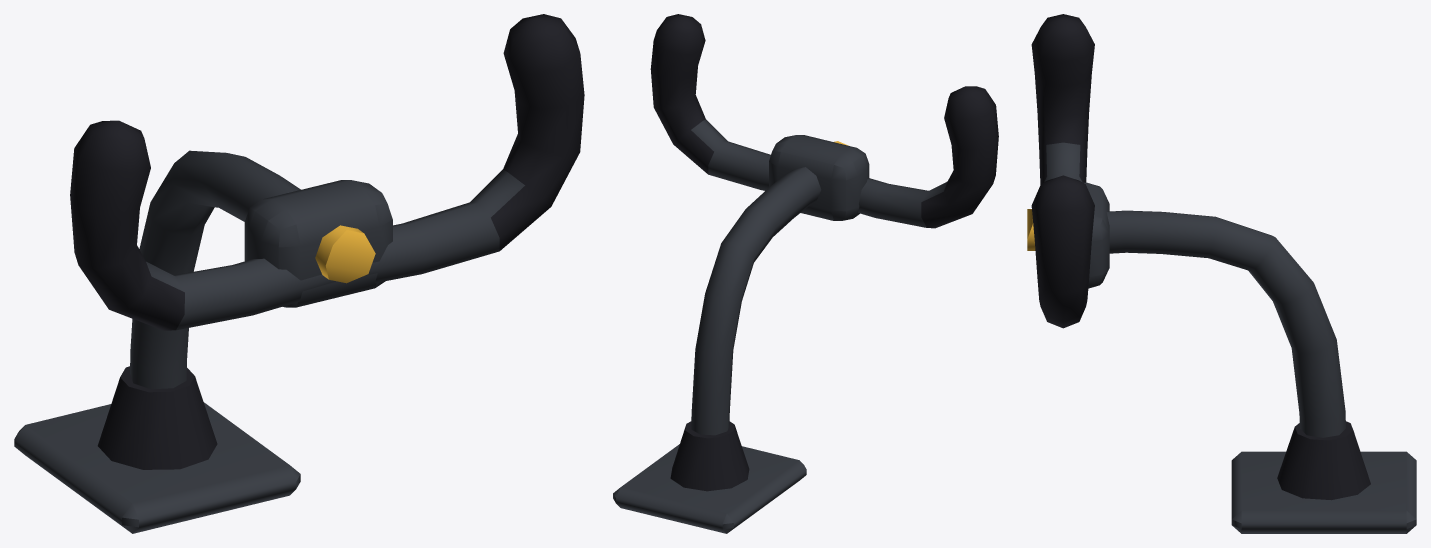
The model's file is Volante.fbx.
3 renders of one model, left to right at view 1: azimuth 30°, elevation 25°; view 2: azimuth 150°, elevation 25°; view 3: azimuth 270°, elevation 25°, orthographic. The views are drawn at different scales.
Visible parts, largest first — view 1: Volante; view 2: Volante; view 3: Volante.
Part boxes in pixels (x1,y1,x2,y2): Volante: (14,14,584,533); Volante: (613,14,998,533); Volante: (1027,14,1416,533).
Bounding box in the file's own units: 1.4 × 1.4 × 1.21.
1 material, 1 textured.
